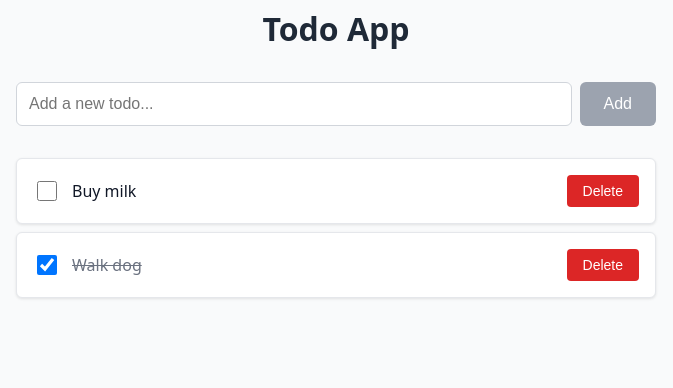
Test: App › shows error when delete fails
This screenshot has width=673, height=388.
expect the text "Buy milk" is shown: met, box [72,180,136,202]
Click the button with test id "delete-button" in the row of "Buy milk" at [603, 191], box [566,175,639,207]
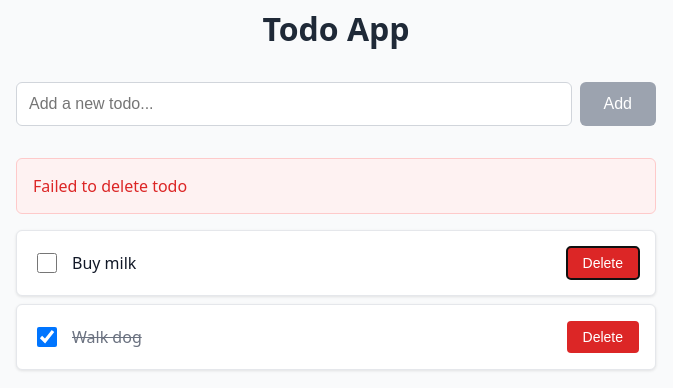
expect the text "Buy milk" is shown: met, box [72,252,136,274]
expect the text "Failed to delete todo" is shown: met, box [16,158,656,214]
